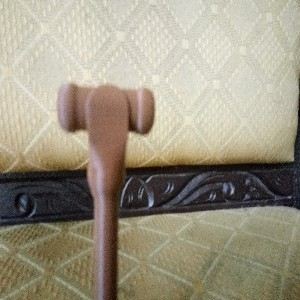palu: (56, 82, 156, 300)
